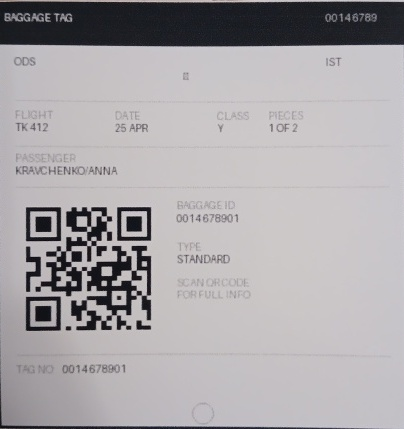LPN_bottom: (59, 358, 129, 377)
LPN_right: (172, 209, 242, 225)
